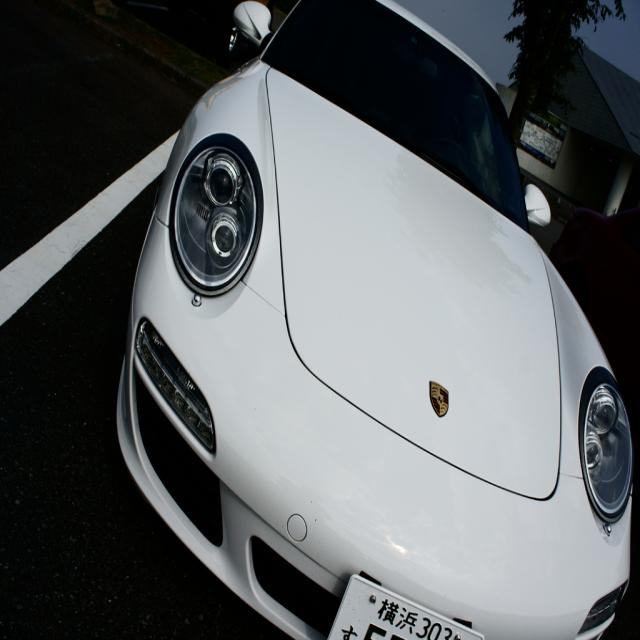car: (117, 29, 620, 638)
